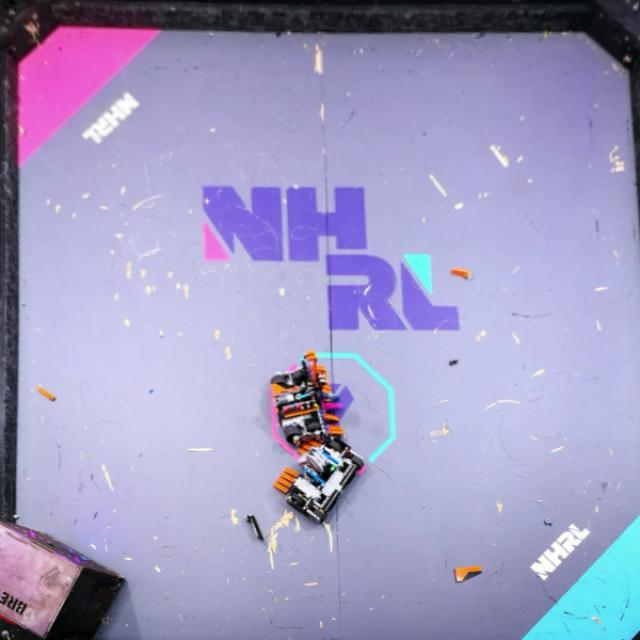housebot: (0, 519, 127, 640)
robot: (275, 438, 365, 526), (270, 351, 344, 445)
